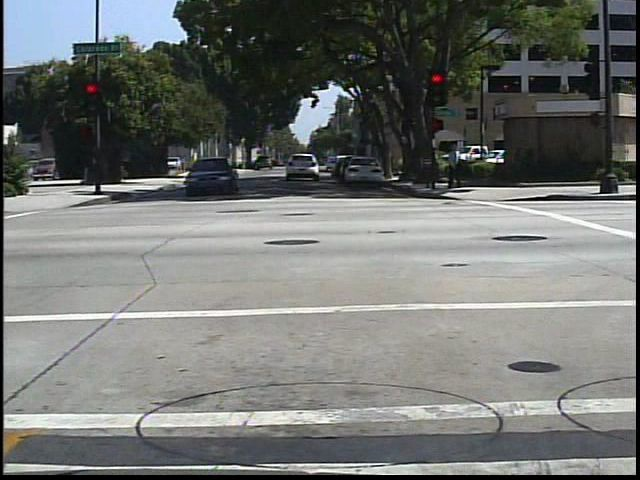person: (444, 139, 467, 191)
